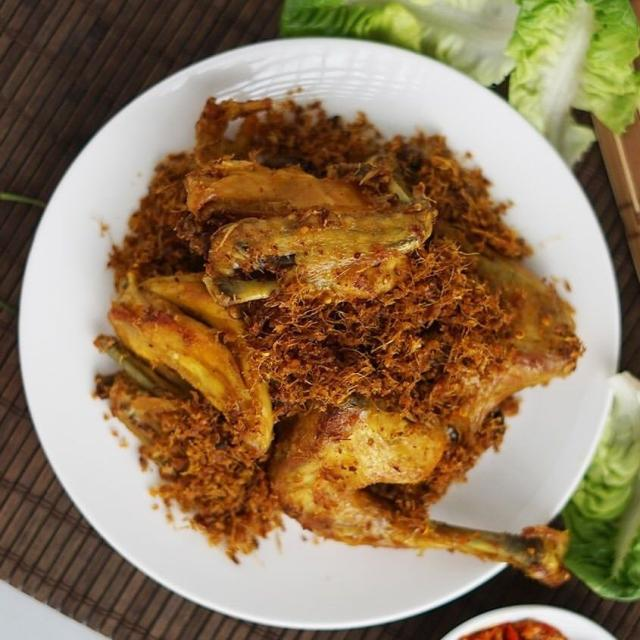ayam goreng: (266, 228, 584, 590), (183, 88, 443, 311), (100, 272, 274, 490)
piring: (16, 37, 624, 634)
